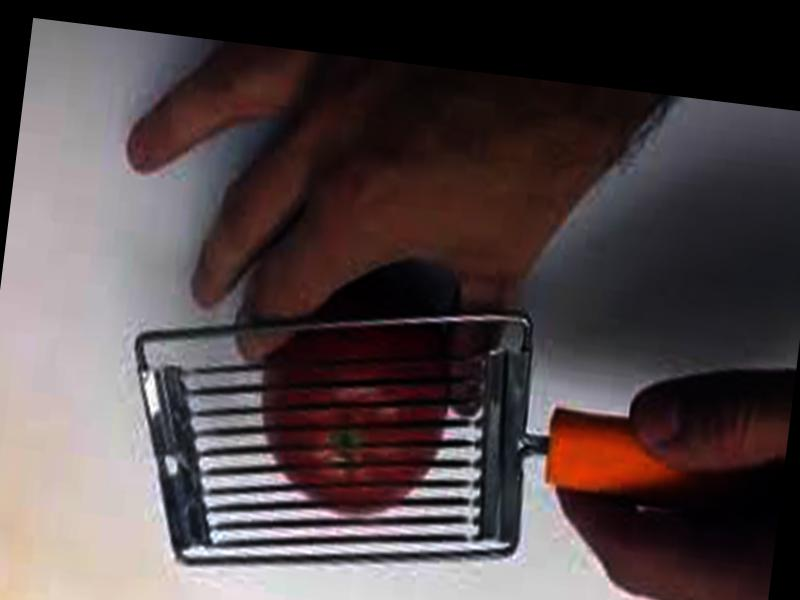Tomato: (254, 274, 464, 523)
